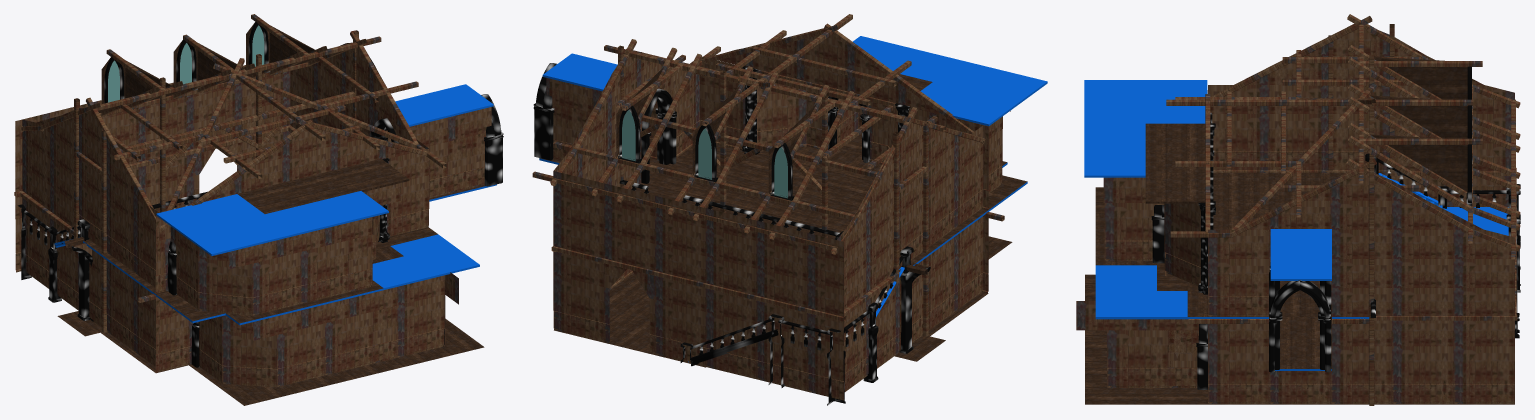
Rendered from Library_Int 1.fbx.
3 renders of one model, left to right at view 1: azimuth 30°, elevation 25°; view 2: azimuth 150°, elevation 25°; view 3: azimuth 270°, elevation 25°, orthographic. The views are drawn at different scales.
Visible parts, largest first — view 1: library_Int_combined; view 2: library_Int_combined; view 3: library_Int_combined.
Boxes of the visible parts, box(x1,y1,x2,y2) form: library_Int_combined: box(14, 14, 503, 405); library_Int_combined: box(532, 14, 1047, 405); library_Int_combined: box(1076, 14, 1520, 405).
Size of the model in its own units: 35.82 by 19.99 by 31.85.
